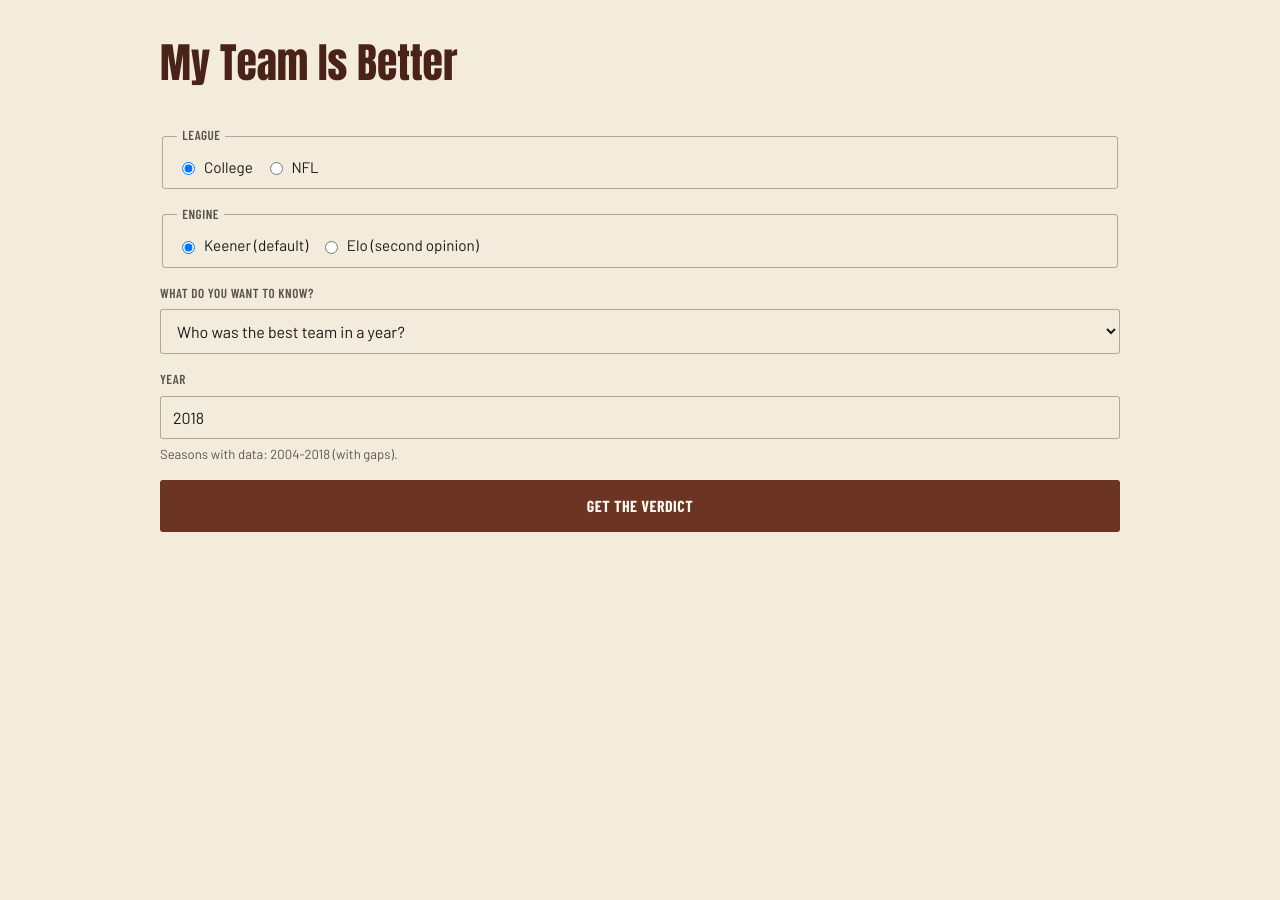
HomePage › the verdict modal (issue #198) › shows an error with its correction pills inside the dialog
Click the button "Get the verdict": {"x": 640, "y": 506} [160,480,1120,532]
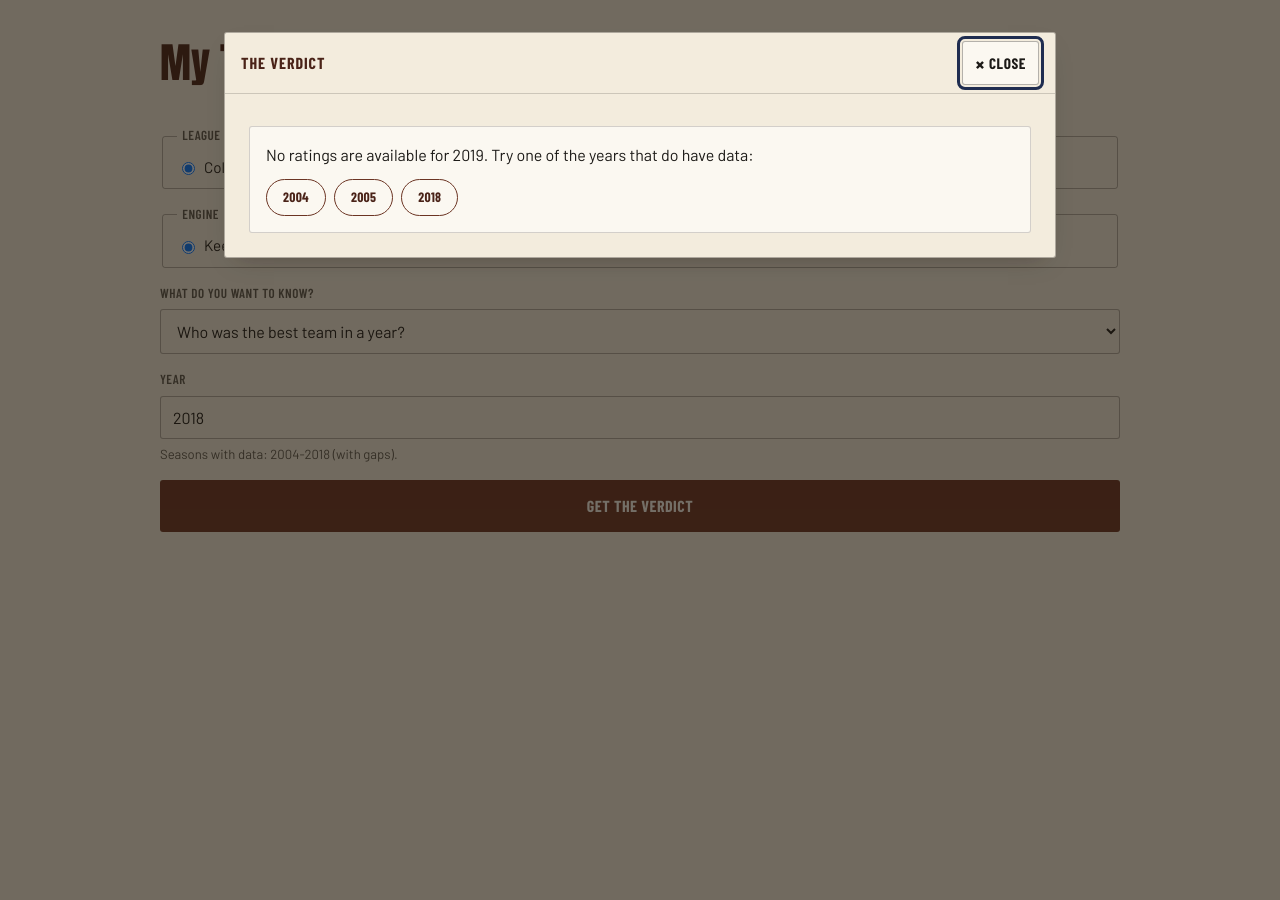
Result: the button "2005" is shown at [334,179,393,216]
